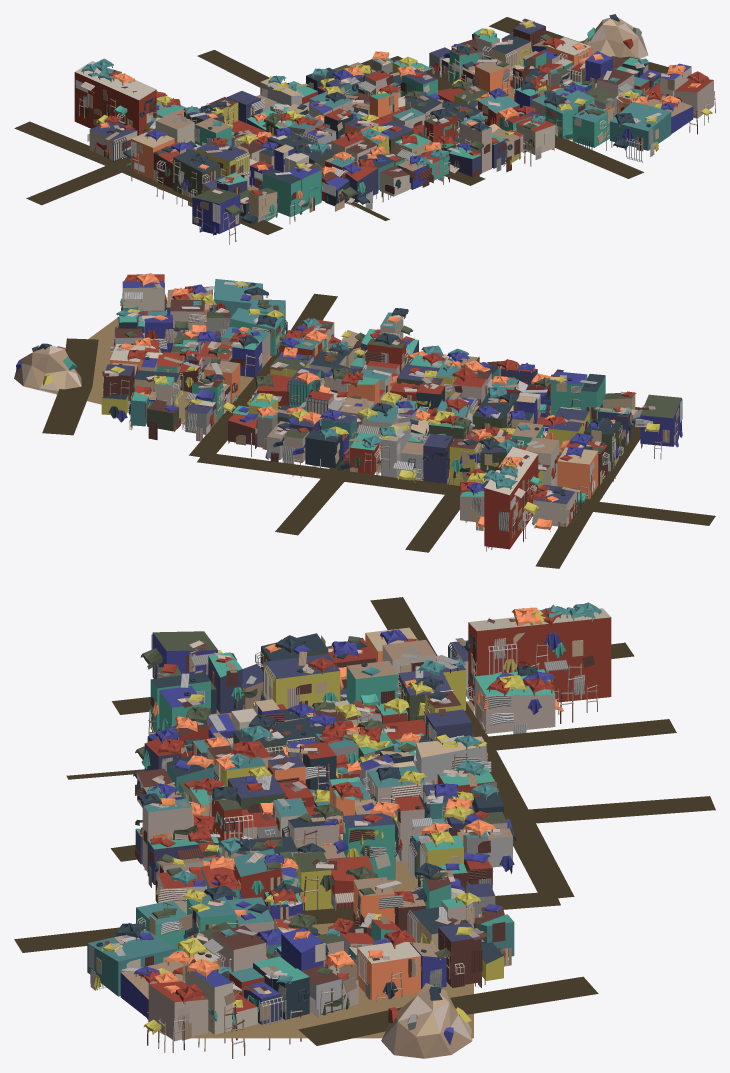
Rendered from TD_Env1.fbx.
3 renders of one model, top to bottom at view 1: azimuth 30°, elevation 25°; view 2: azimuth 150°, elevation 25°; view 3: azimuth 270°, elevation 25°, orthographic. The views are drawn at different scales.
Parts seen in each view (by area): view 1: Env_TD_01; view 2: Env_TD_01; view 3: Env_TD_01.
Boxes of the visible parts, <box> form: Env_TD_01: <box>14,14,715,244</box>; Env_TD_01: <box>14,273,715,568</box>; Env_TD_01: <box>14,597,715,1058</box>.
Bounding box in the file's own units: 10780 × 1330 × 7043.
3 materials, 1 textured.
